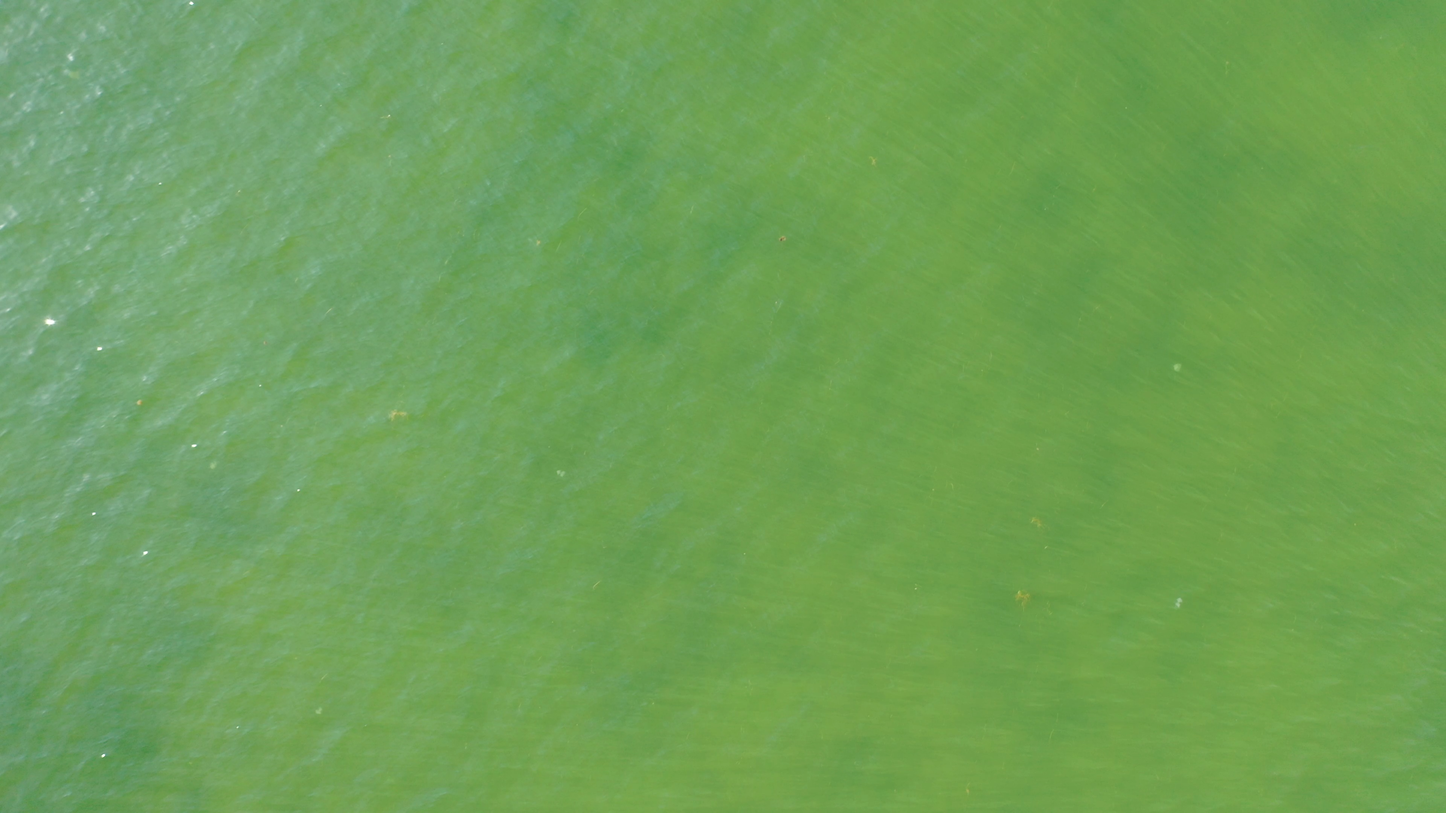meduse: (1175, 599, 1184, 607), (1174, 363, 1182, 372), (315, 707, 322, 714), (558, 471, 564, 478), (209, 463, 215, 468)
